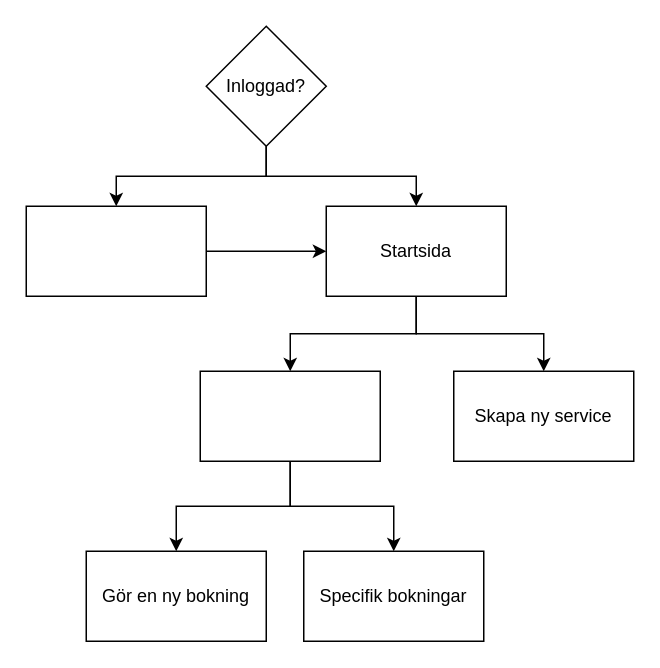
Image size: 660x668. Some labels were removed from this diagram. The centre of each missing label's shape, as x and y in pixels:
"Existerande Service" goes at point 289,415.
"Inloggningssida" goes at point 115,250.
